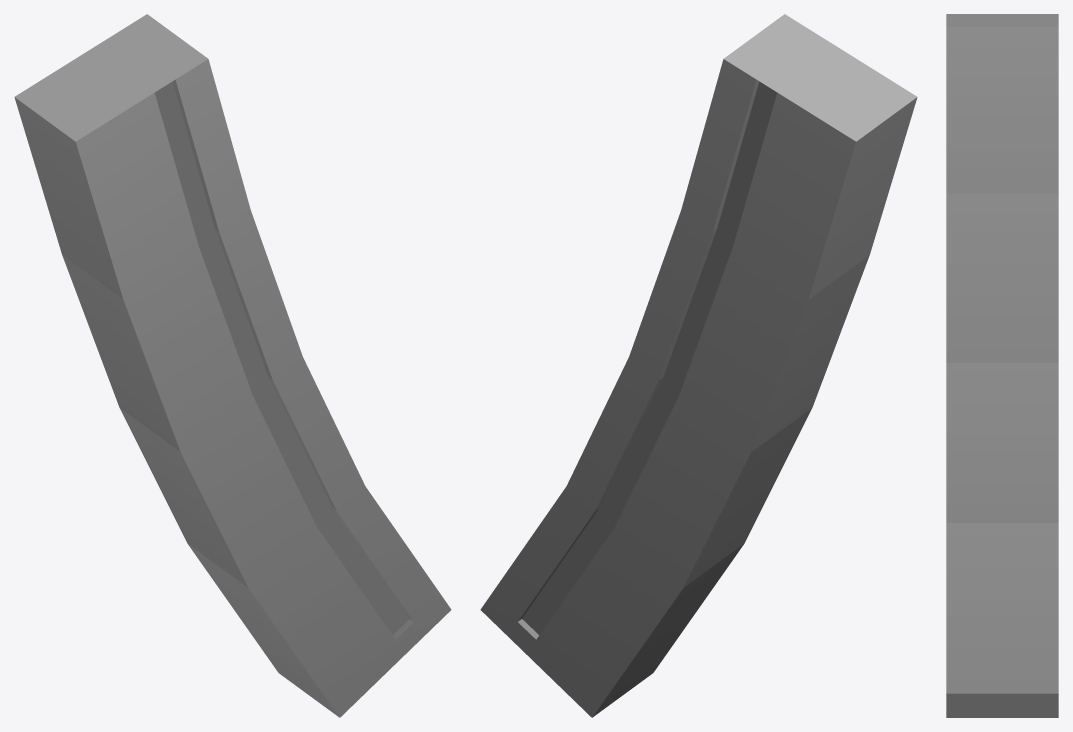
File: SMG2_04_2.fbx
3 views of the same model, side by side, from view 1: azimuth 30°, elevation 25°; view 2: azimuth 150°, elevation 25°; view 3: azimuth 270°, elevation 25° (orthographic). The views are drawn at different scales.
Visible parts, largest first — view 1: SMG2_04_2; view 2: SMG2_04_2; view 3: SMG2_04_2.
Part boxes in pixels (box(x1,y1,x2,y2)): SMG2_04_2: box(14, 14, 451, 717); SMG2_04_2: box(480, 14, 917, 717); SMG2_04_2: box(946, 14, 1058, 717).
Bounding box in the file's own units: 0.1015 × 0.1783 × 0.0287.
